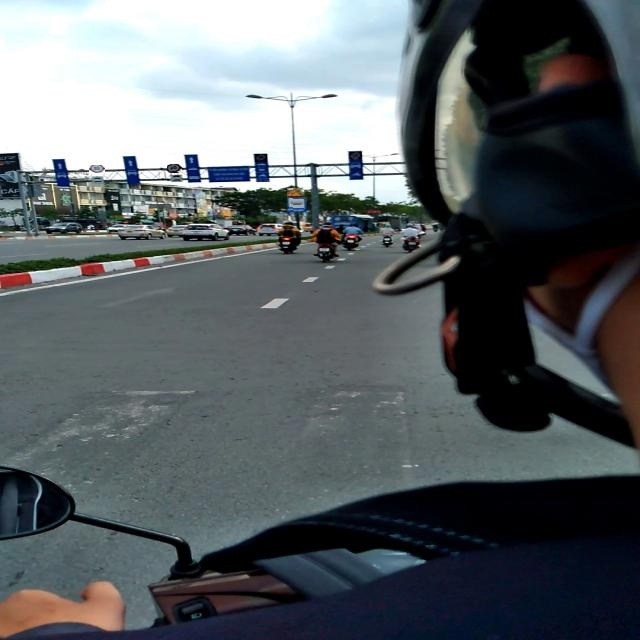bien_cam: (287, 197, 307, 212), (89, 166, 105, 176), (168, 164, 184, 173), (288, 188, 306, 196), (255, 154, 267, 162), (349, 152, 362, 159)
